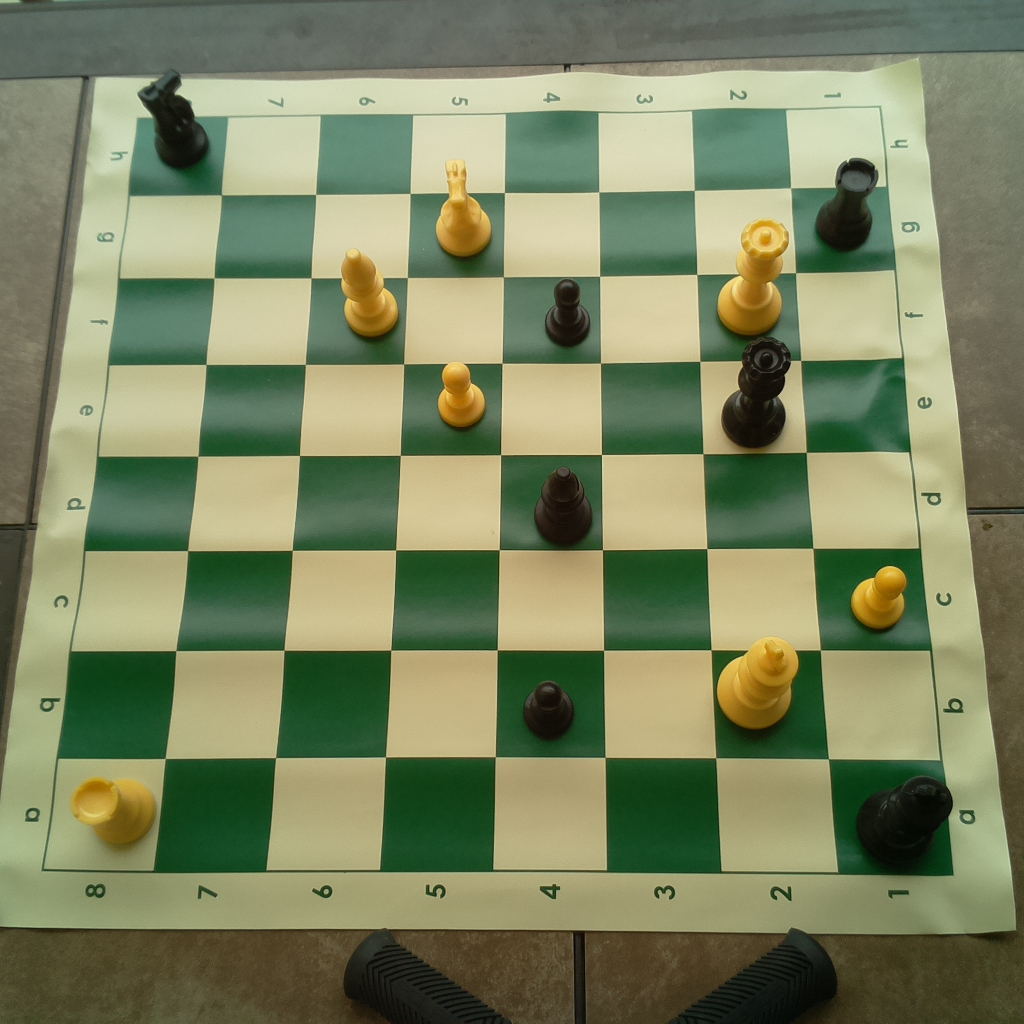black_bishop: (524, 461, 594, 548)
black_king: (851, 773, 957, 870)
black_knight: (136, 62, 214, 169)
black_pawn: (542, 274, 593, 349), (525, 678, 576, 738)
black_queen: (721, 335, 789, 447)
black_rook: (810, 151, 880, 256)
file_a: (44, 756, 958, 877)
file_b: (57, 651, 944, 760)
file_c: (71, 552, 932, 651)
file_d: (88, 457, 921, 551)
file_e: (98, 360, 910, 453)
file_f: (110, 267, 903, 361)
file_g: (116, 187, 897, 278)
file_h: (132, 104, 888, 187)
outline: (40, 105, 957, 875)
rank_1: (788, 105, 954, 877)
rank_2: (693, 108, 841, 874)
rank_3: (599, 109, 720, 873)
rank_4: (492, 113, 599, 871)
rank_5: (377, 115, 506, 875)
rank_6: (263, 117, 415, 874)
rank_7: (154, 118, 323, 874)
rank_8: (44, 115, 228, 871)
white_bishop: (334, 243, 403, 339)
white_king: (711, 628, 807, 732)
white_knight: (423, 154, 496, 257)
white_pawn: (847, 557, 910, 631), (433, 358, 486, 431)
white_queen: (710, 215, 792, 334)
white_rook: (70, 762, 160, 849)
